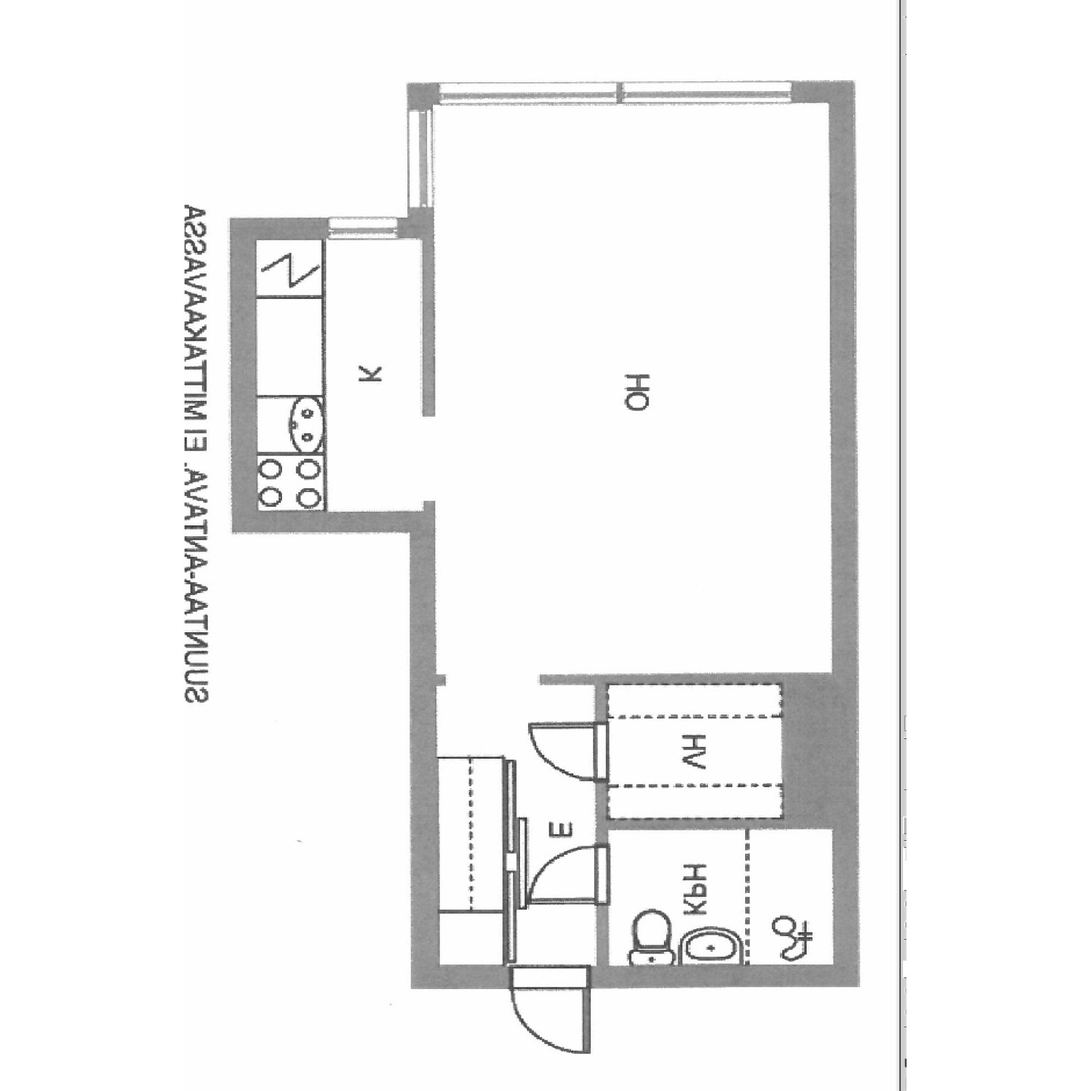wall: (833, 80, 858, 673), (782, 673, 858, 829), (408, 80, 858, 105), (411, 513, 434, 987), (410, 966, 858, 987), (231, 218, 254, 532), (596, 673, 611, 988), (539, 673, 858, 686), (231, 513, 434, 533), (230, 218, 432, 238), (833, 829, 858, 988), (408, 84, 432, 239), (596, 818, 858, 829), (421, 218, 434, 416), (411, 674, 447, 685), (423, 500, 433, 532)
